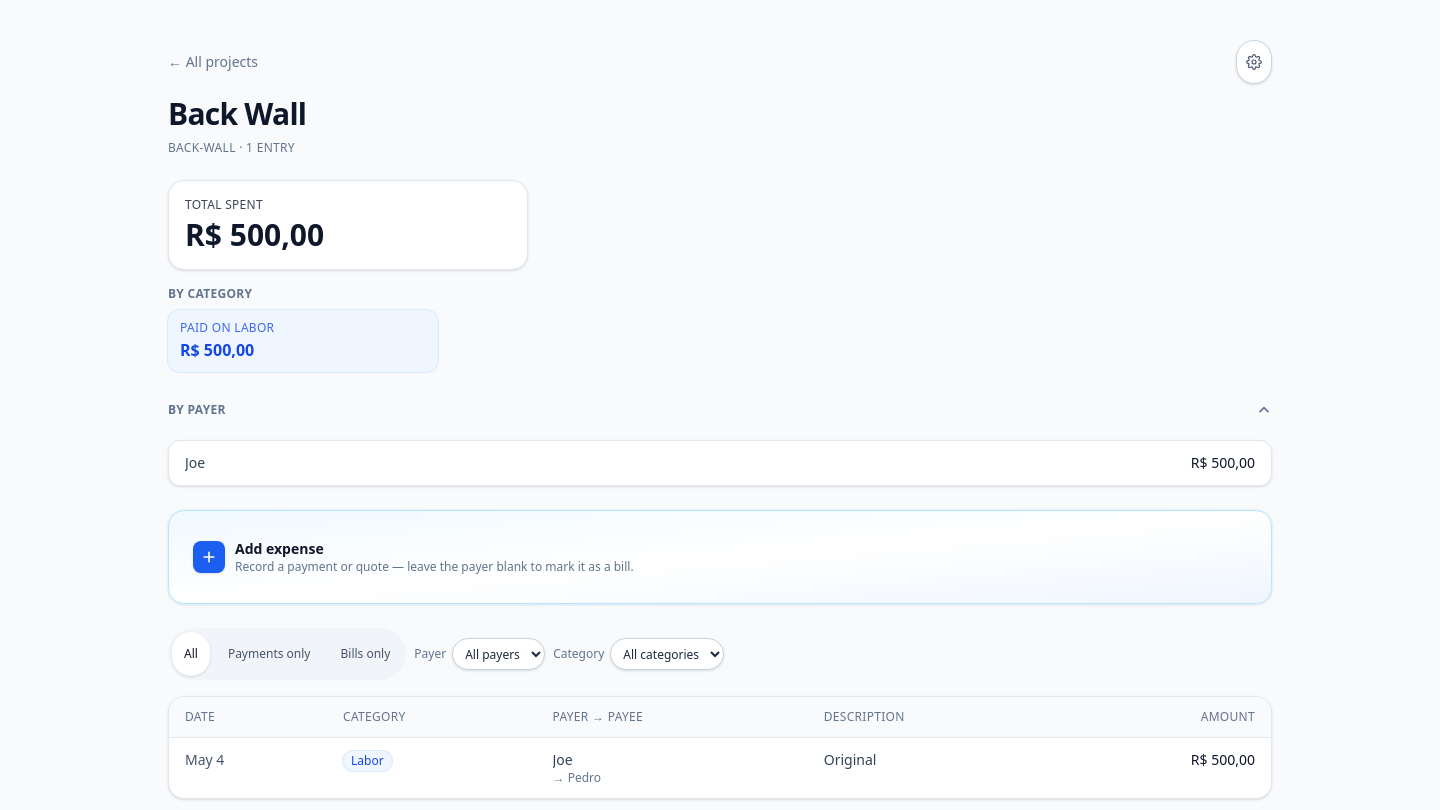
Test: Settings rename then save › uses the correct revision with the new server
The image size is (1440, 810).
Click the button named "Project settings".
click(1254, 62)  # box [1236,40,1272,84]
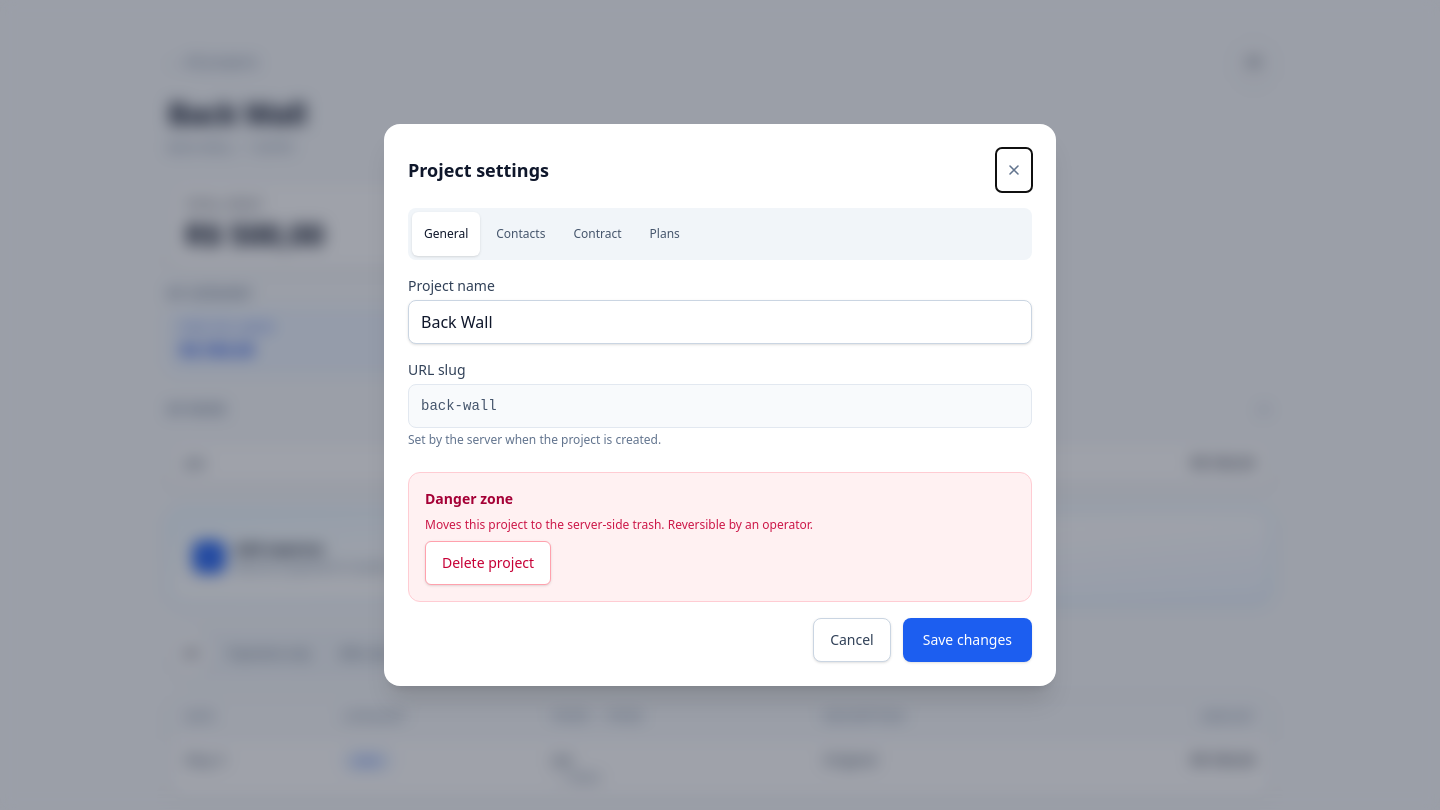
Replace the text in the field labelled "Project name" with "Renamed" at {"x": 720, "y": 322}, box [408,300,1032,344]
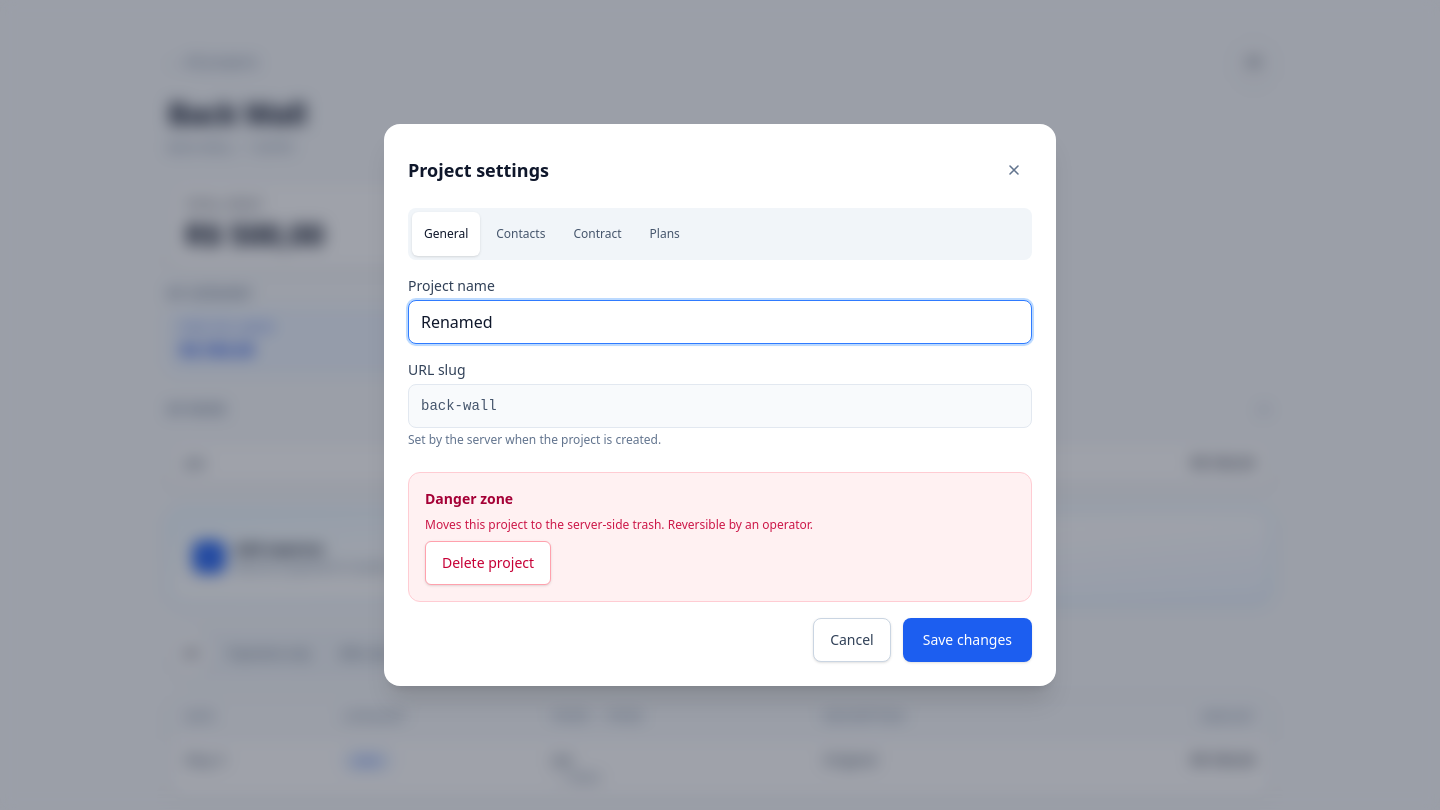
Click the button "Save changes".
click(967, 640)  # box [903,618,1032,662]
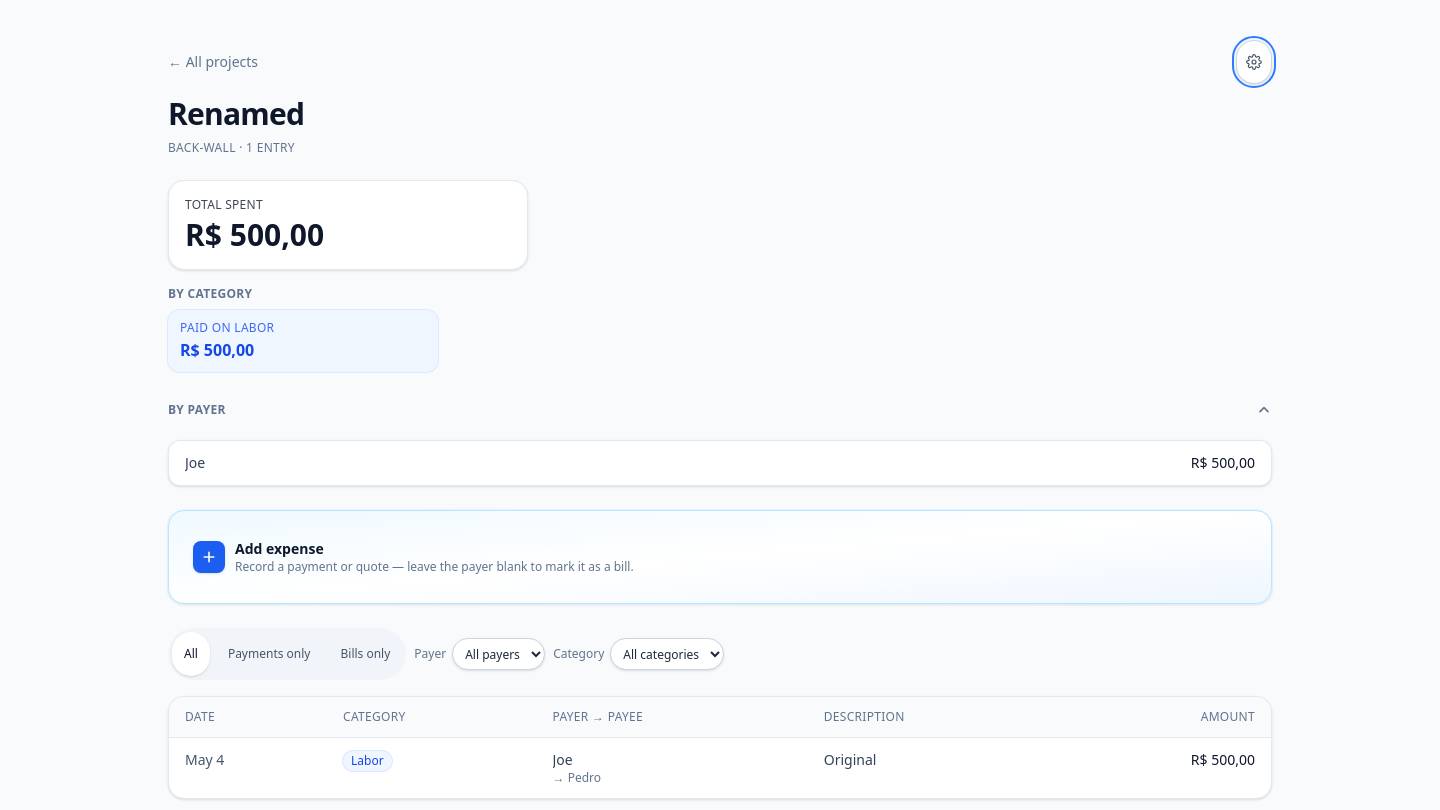
Check: the dialog is gone
Click the button named "Project settings".
click(1254, 62)  # box [1236,40,1272,84]
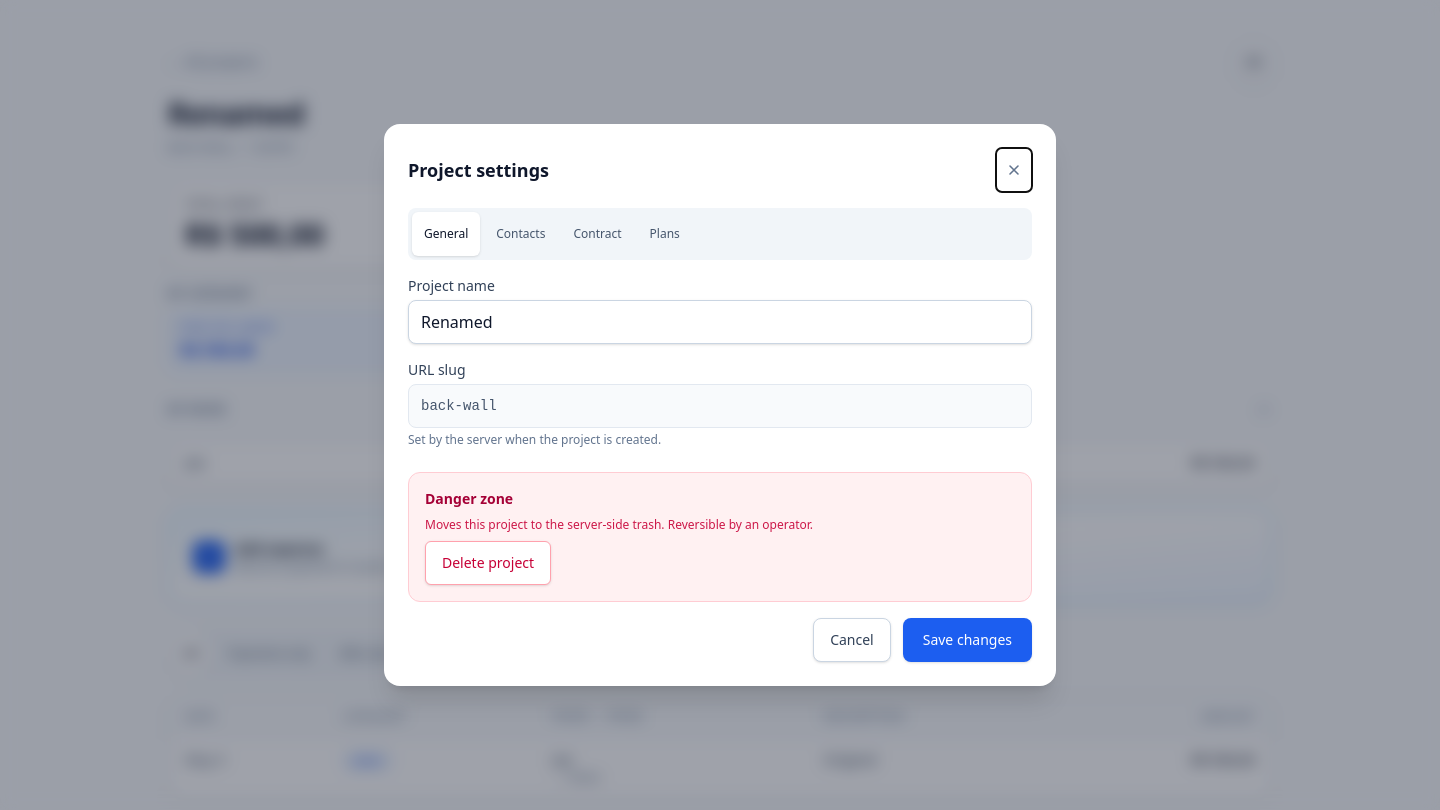
Click the button "Save changes".
click(967, 640)  # box [903,618,1032,662]
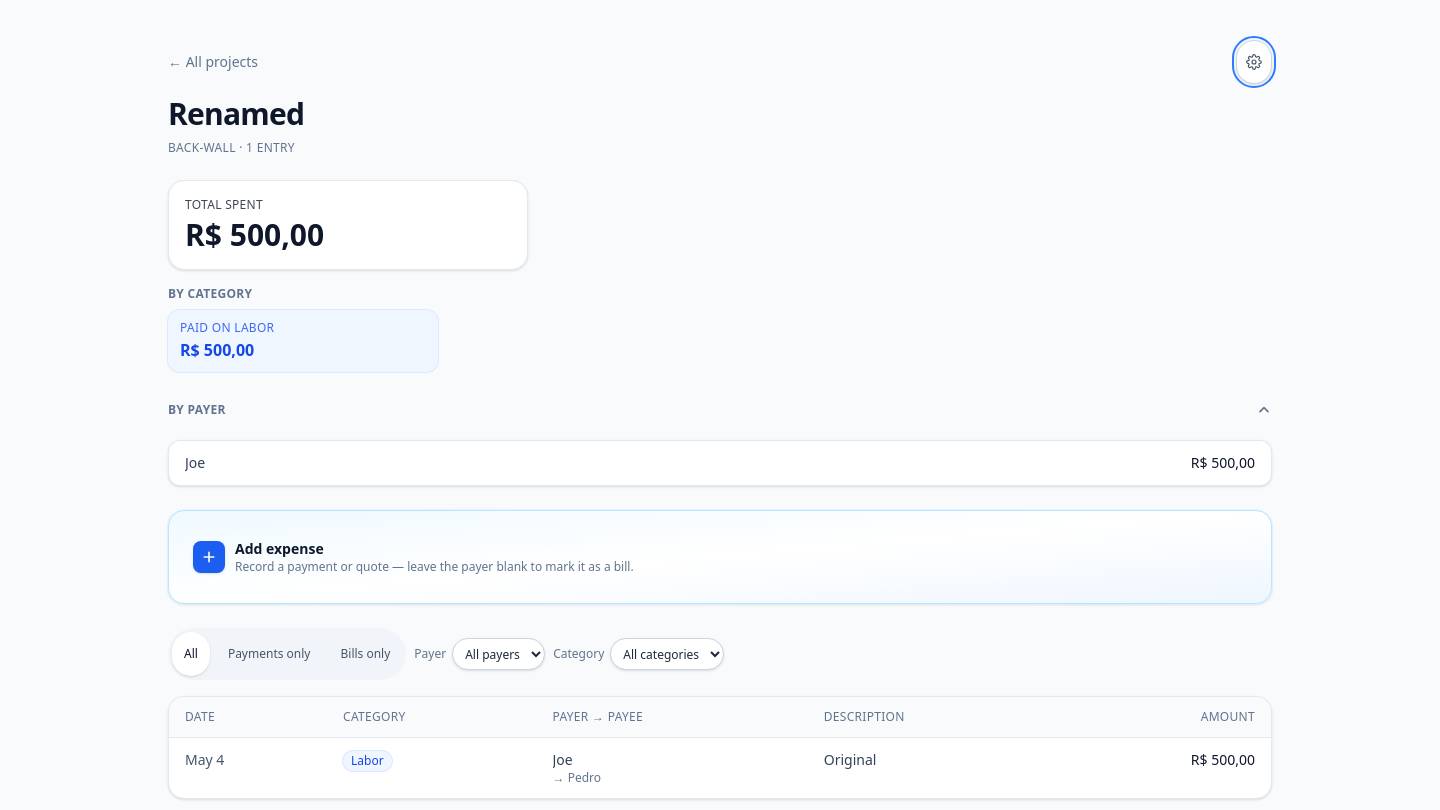
Check: the dialog is gone
